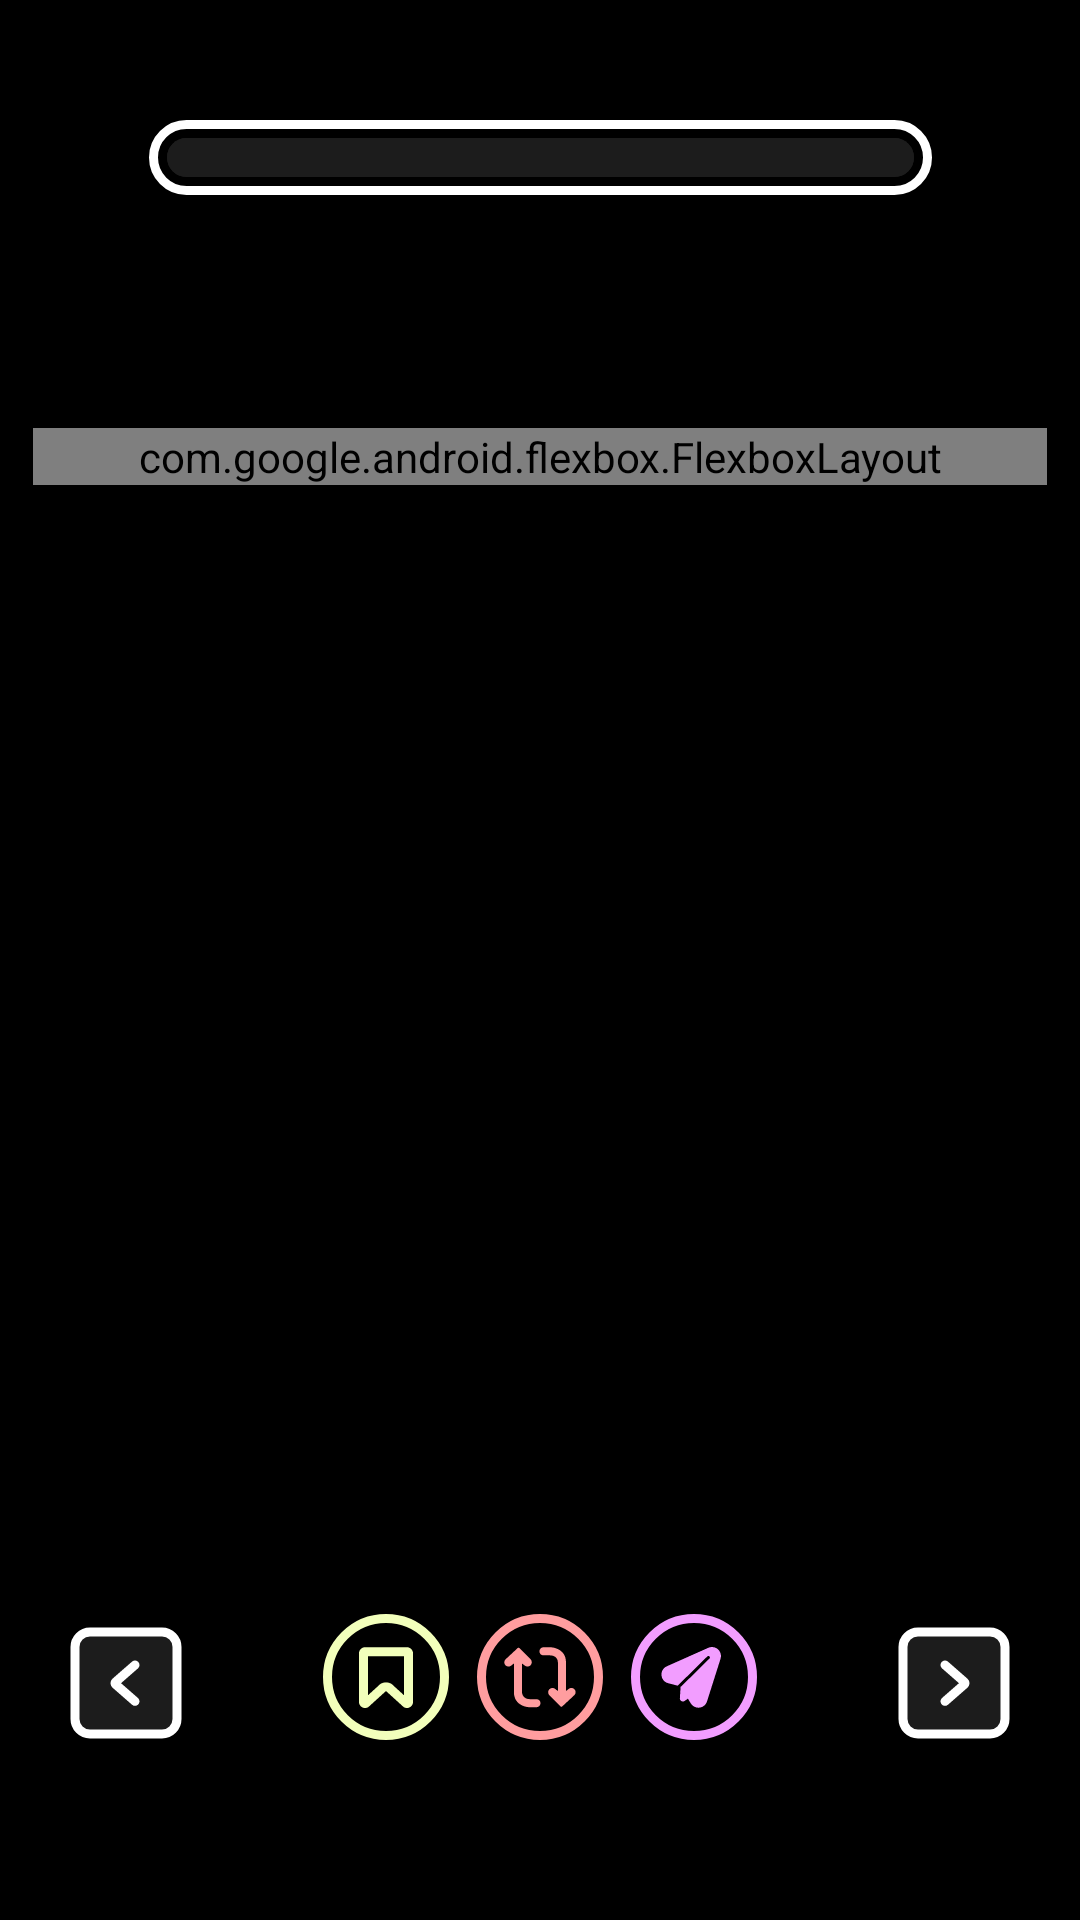

Icon bounding boxes for this 1080 x 1920 phone screenshot, format [x1,y1,x2,y2]:
favorite: [323,1614,449,1740]
forward: [631,1614,757,1740]
next question: [898,1627,1010,1739]
previous question: [70,1627,182,1739]
repost: [477,1614,603,1740]
